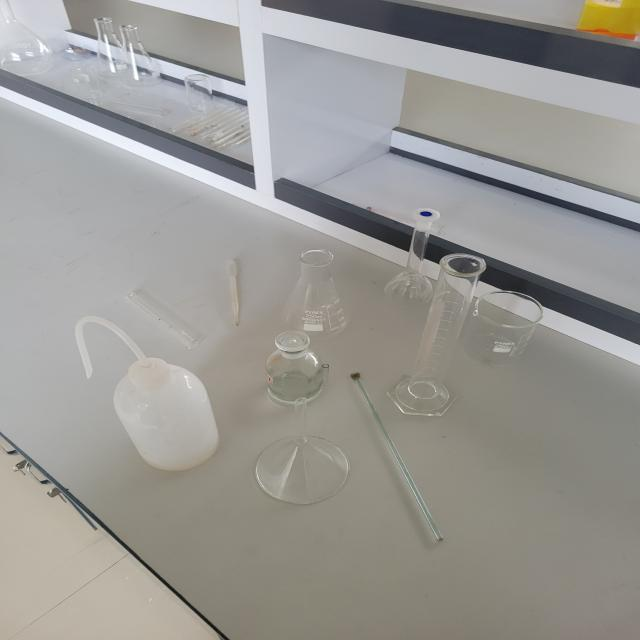Beaker: (472, 274, 548, 381)
Conical_Flask: (276, 226, 364, 356)
Funnel: (248, 374, 357, 518)
Glass_Rod: (352, 355, 446, 550)
Measuring_Cylinder: (379, 225, 475, 428)
Pipette: (208, 253, 262, 332)
Reagent_Bottle: (257, 320, 343, 421)
Test_Tube: (119, 280, 209, 351)
Volumetric_Flask: (371, 190, 448, 313)
Wash_Bottle: (43, 299, 226, 497)
